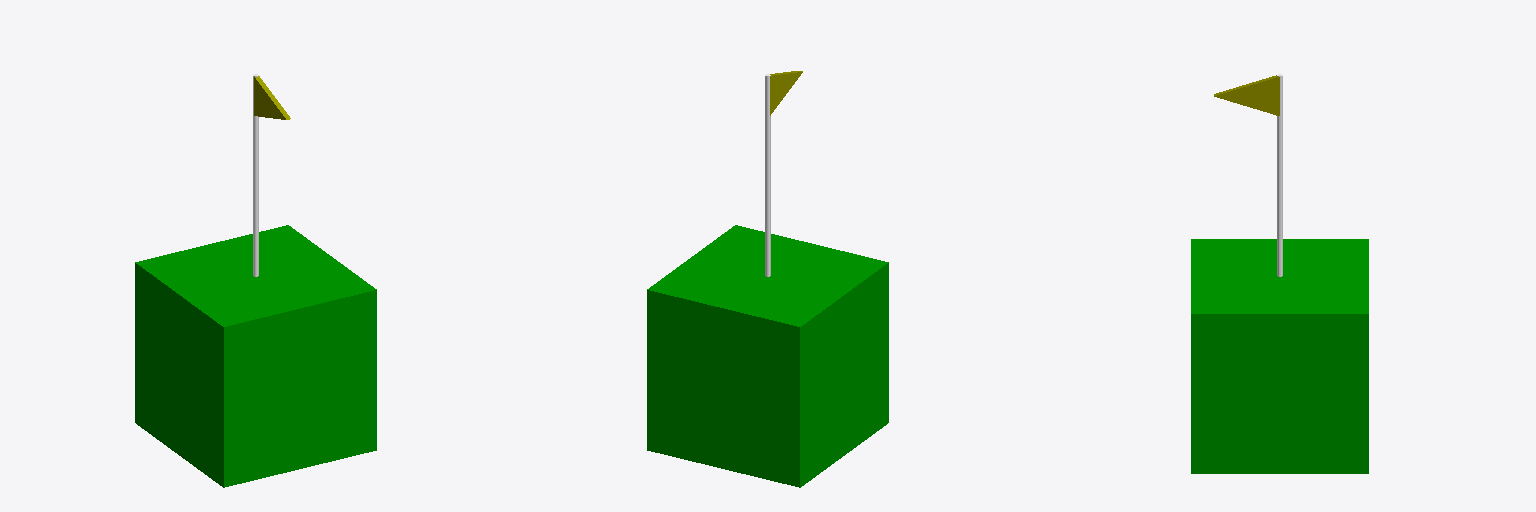
Rendered from NewYellowFlag.obj.
The picture shows the model from 3 angles: view 1: azimuth 30°, elevation 25°; view 2: azimuth 150°, elevation 25°; view 3: azimuth 270°, elevation 25°; orthographic projection.
Visible parts, largest first — view 1: Cube; view 2: Cube; view 3: Cube.
Boxes of the visible parts, box(x1,y1,x2,y2) form: Cube: box(135, 74, 376, 487); Cube: box(647, 71, 888, 487); Cube: box(1191, 74, 1368, 473).
Bounding box in the file's own units: 2 × 4.5 × 2.